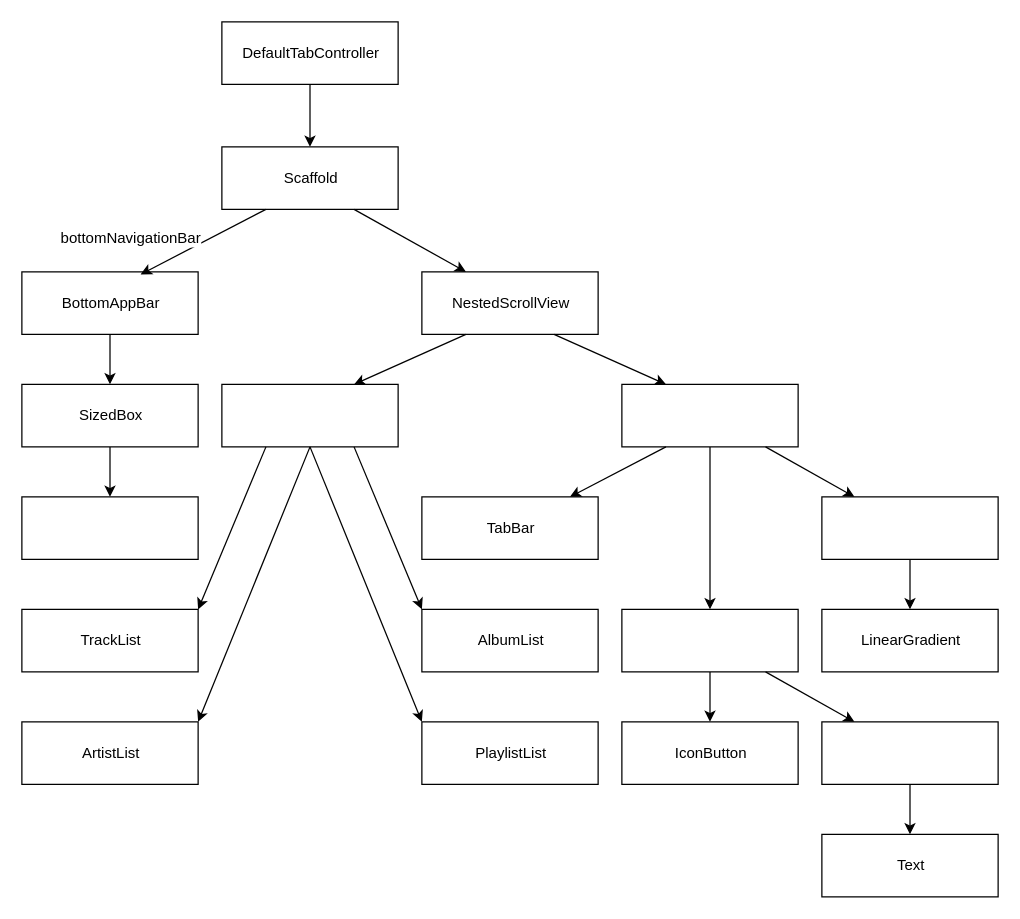
This 1020x919 diagram has some shape labels left out. Each missing label, with the box of its shape:
Container: (821, 496, 998, 559)
PlayBar: (21, 496, 198, 559)
Row: (621, 608, 798, 672)
SliverAppBar: (621, 383, 798, 447)
TabBarView: (221, 383, 398, 447)
TextButton: (821, 721, 998, 784)
